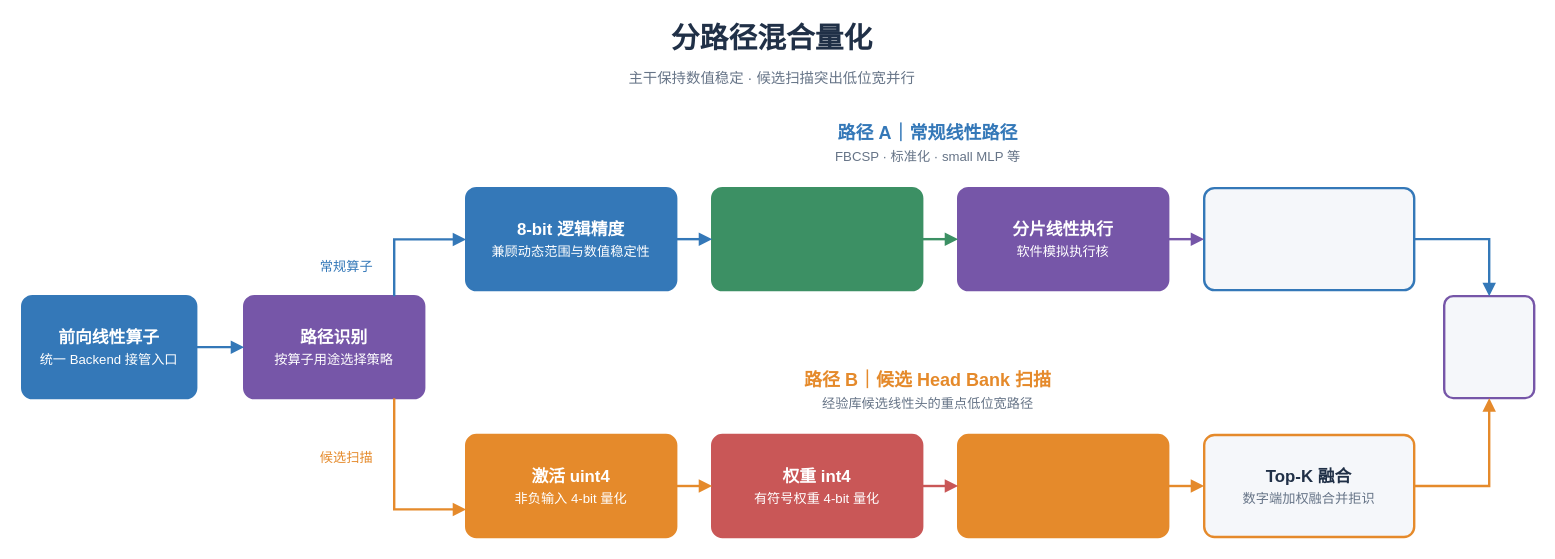
Some shapes in this 1555 by 559 pixel diagram are drawn without their labels. Each missing label, with the centre of its shape:
"radix-16 拆分 展开为多个 4-bit slices" belongs at point (816, 238).
"TiledMVM 候选 Bank 单次低位宽扫描" belongs at point (1062, 485).
"数字端累加 重构线性输出" belongs at point (1308, 238).
"输出 进入数字端" belongs at point (1488, 346).
